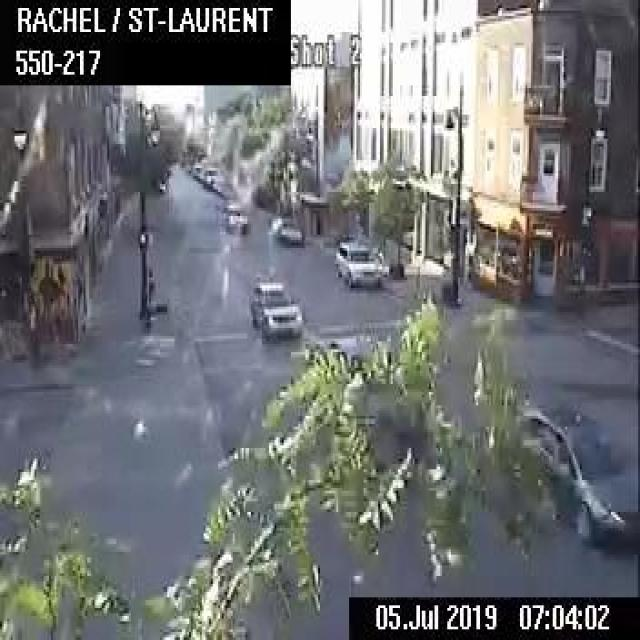vehicle: (520, 397, 638, 555), (248, 277, 304, 336), (333, 238, 382, 286), (270, 212, 302, 242), (221, 202, 247, 229)
